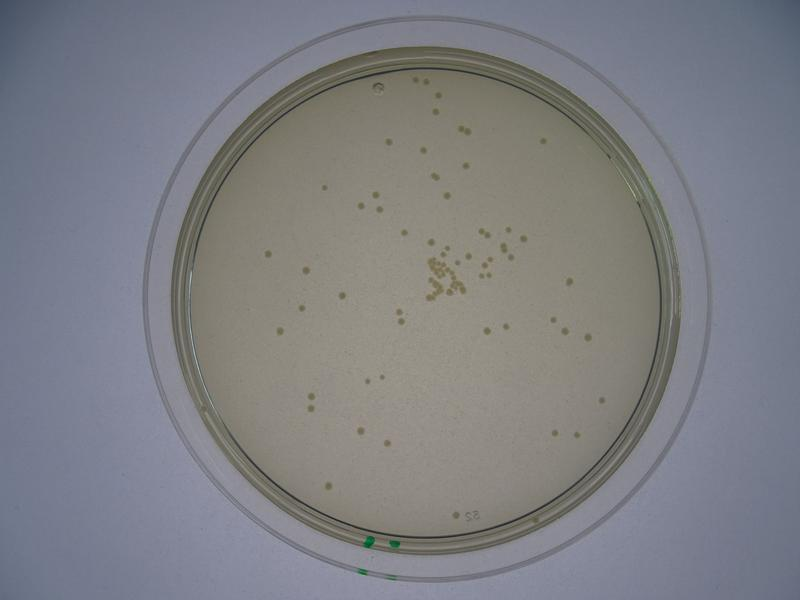colony: (500, 319, 515, 333), (323, 478, 335, 495), (478, 324, 491, 339), (381, 435, 393, 450), (564, 275, 577, 288), (517, 232, 529, 246), (549, 425, 561, 439), (441, 190, 453, 203), (356, 422, 367, 436), (383, 133, 394, 147), (262, 247, 274, 259), (537, 135, 549, 147), (295, 302, 308, 313), (337, 290, 350, 301), (450, 508, 461, 521), (318, 182, 332, 192), (399, 226, 410, 237), (595, 395, 606, 406), (302, 264, 312, 276), (432, 107, 442, 119), (460, 159, 470, 171), (275, 325, 284, 337), (418, 146, 428, 155), (571, 429, 580, 439)
